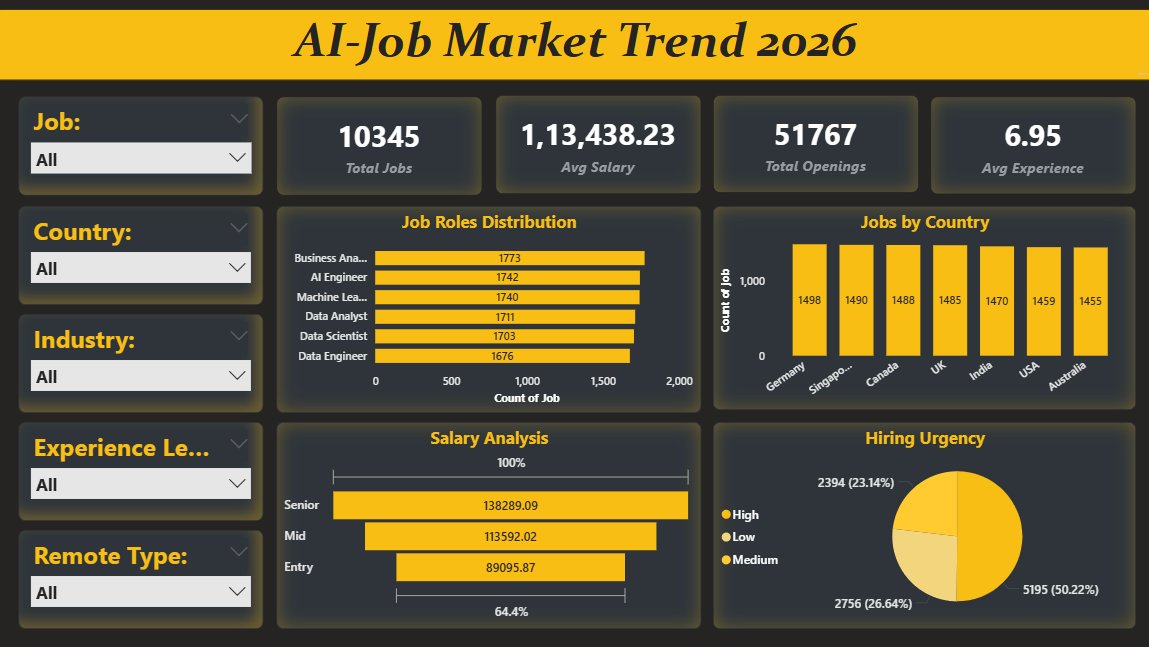

Layout of this report page (visuals, bound fields, positions):
{"tool":"powerbi","page":{"name":"Page 1","canvas":[1280,720],"ordinal":0},"visuals":[{"type":"card","fields":{"Values":["AI_Job_Market_Trends_2026.Total Jobs"]},"box":[308.3,108.3,228.3,110],"z":0},{"type":"card","fields":{"Values":["AI_Job_Market_Trends_2026.Avg Salary"]},"box":[551.7,106.7,228.3,110],"z":1000},{"type":"card","fields":{"Values":["AI_Job_Market_Trends_2026.Total Openings"]},"box":[793.3,106.7,228.3,108.3],"z":2000},{"type":"card","fields":{"Values":["AI_Job_Market_Trends_2026.Avg Experience"]},"box":[1035,108.3,228.3,108.3],"z":3000},{"type":"columnChart","title":"Jobs by Country","fields":{"Category":["AI_Job_Market_Trends_2026.Country"],"Y":["CountNonNull(AI_Job_Market_Trends_2026.Job ID)"]},"box":[793.3,230,470,226.7],"z":4000},{"type":"funnel","title":"Salary Analysis","fields":{"Category":["AI_Job_Market_Trends_2026.Experience Level"],"Y":["Avg(AI_Job_Market_Trends_2026.Salary)"]},"box":[308.3,470,471.7,230],"z":5000},{"type":"pieChart","title":"Hiring Urgency","fields":{"Category":["AI_Job_Market_Trends_2026.Hiring Urgency"],"Y":["CountNonNull(AI_Job_Market_Trends_2026.Job ID)"]},"box":[793.3,470,470,230],"z":6000},{"type":"slicer","fields":{"Values":["AI_Job_Market_Trends_2026.Country"]},"box":[21.7,230,271.7,110],"z":7000},{"type":"slicer","fields":{"Values":["AI_Job_Market_Trends_2026.Experience Level"]},"box":[21.7,470,271.7,110],"z":8000},{"type":"slicer","fields":{"Values":["AI_Job_Market_Trends_2026.Company Industry"]},"box":[21.7,350,271.7,110],"z":9000},{"type":"slicer","fields":{"Values":["AI_Job_Market_Trends_2026.Remote Type"]},"box":[21.7,590,271.7,110],"z":10000},{"type":"textbox","title":"AI-Job Market Trend 2026","box":[0,11.7,1280,78.3],"z":11000},{"type":"slicer","fields":{"Values":["AI_Job_Market_Trends_2026.Job Title"]},"box":[22,108,272,110],"z":12000},{"type":"barChart","title":"Job Roles Distribution","fields":{"Y":["CountNonNull(AI_Job_Market_Trends_2026.Job ID)"],"Category":["AI_Job_Market_Trends_2026.Job Title"]},"box":[308.3,230,471.7,230],"z":13000}]}

Visuals, with their boxes in screenshot pixels (x1, y1, x2, y2), scaled from the page's 1280x720 canvas onto the 1149x647 screenshot:
card - AI_Job_Market_Trends_2026.Total Jobs: box=[277, 97, 482, 196]
card - AI_Job_Market_Trends_2026.Avg Salary: box=[495, 96, 700, 195]
card - AI_Job_Market_Trends_2026.Total Openings: box=[712, 96, 917, 193]
card - AI_Job_Market_Trends_2026.Avg Experience: box=[929, 97, 1134, 195]
"Jobs by Country" columnChart: box=[712, 207, 1134, 410]
"Salary Analysis" funnel: box=[277, 422, 700, 629]
"Hiring Urgency" pieChart: box=[712, 422, 1134, 629]
slicer - AI_Job_Market_Trends_2026.Country: box=[19, 207, 263, 306]
slicer - AI_Job_Market_Trends_2026.Experience Level: box=[19, 422, 263, 521]
slicer - AI_Job_Market_Trends_2026.Company Industry: box=[19, 315, 263, 413]
slicer - AI_Job_Market_Trends_2026.Remote Type: box=[19, 530, 263, 629]
"AI-Job Market Trend 2026" textbox: box=[0, 11, 1148, 81]
slicer - AI_Job_Market_Trends_2026.Job Title: box=[20, 97, 264, 196]
"Job Roles Distribution" barChart: box=[277, 207, 700, 413]
